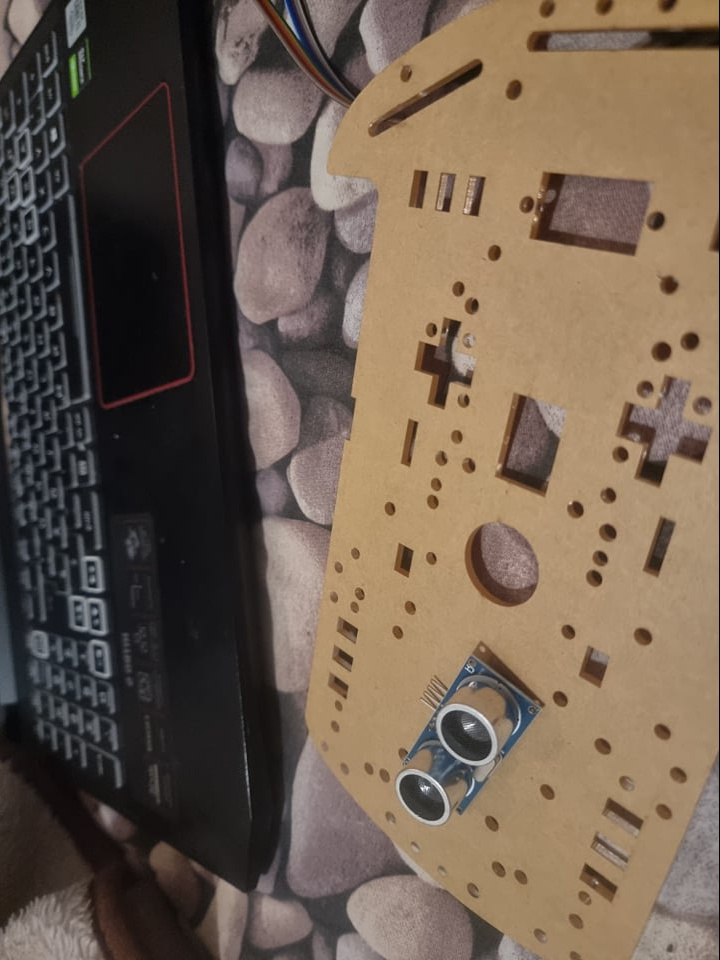SENSOR: (396, 653, 545, 821)
